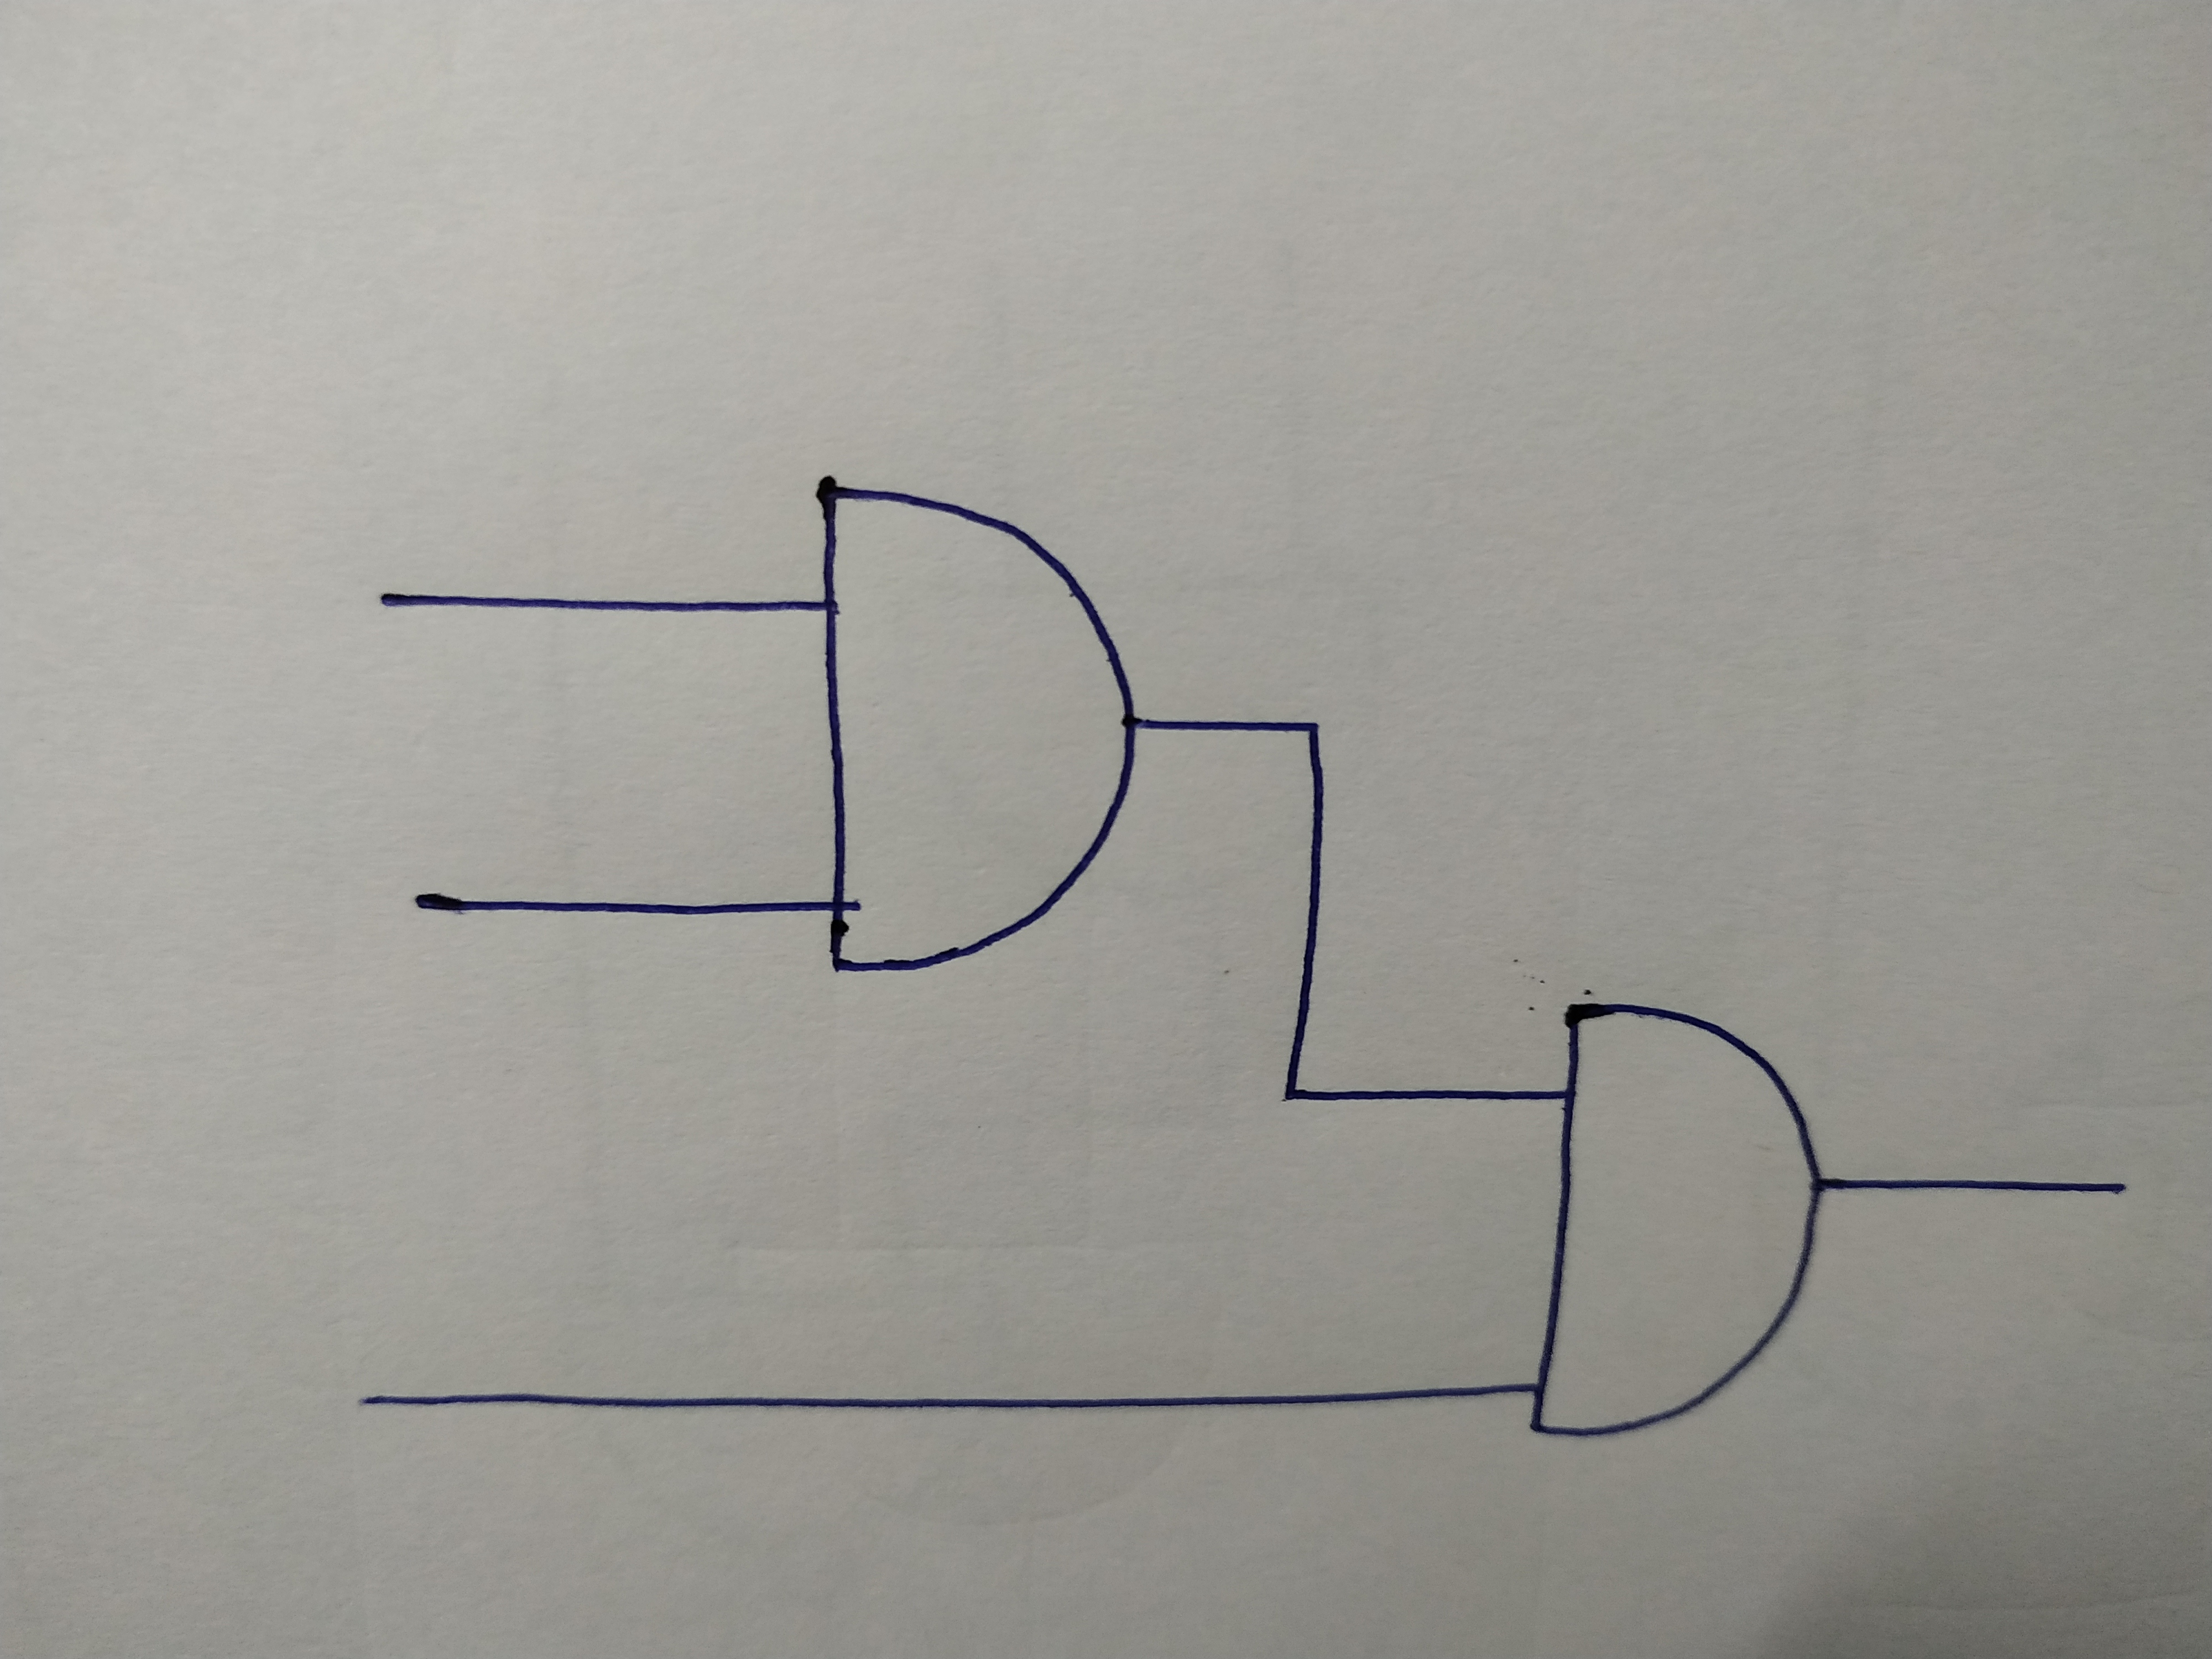and: (812, 474, 1132, 972), (1522, 1002, 1825, 1439)
